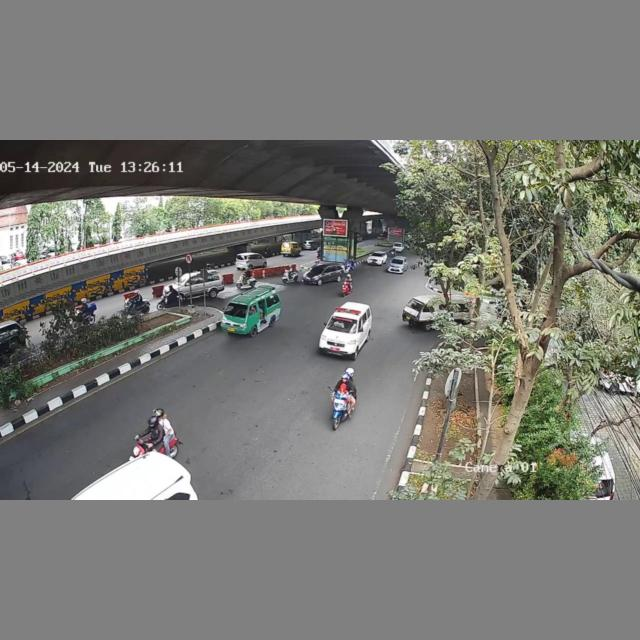windshield: (327, 317, 359, 335), (223, 303, 250, 319)
